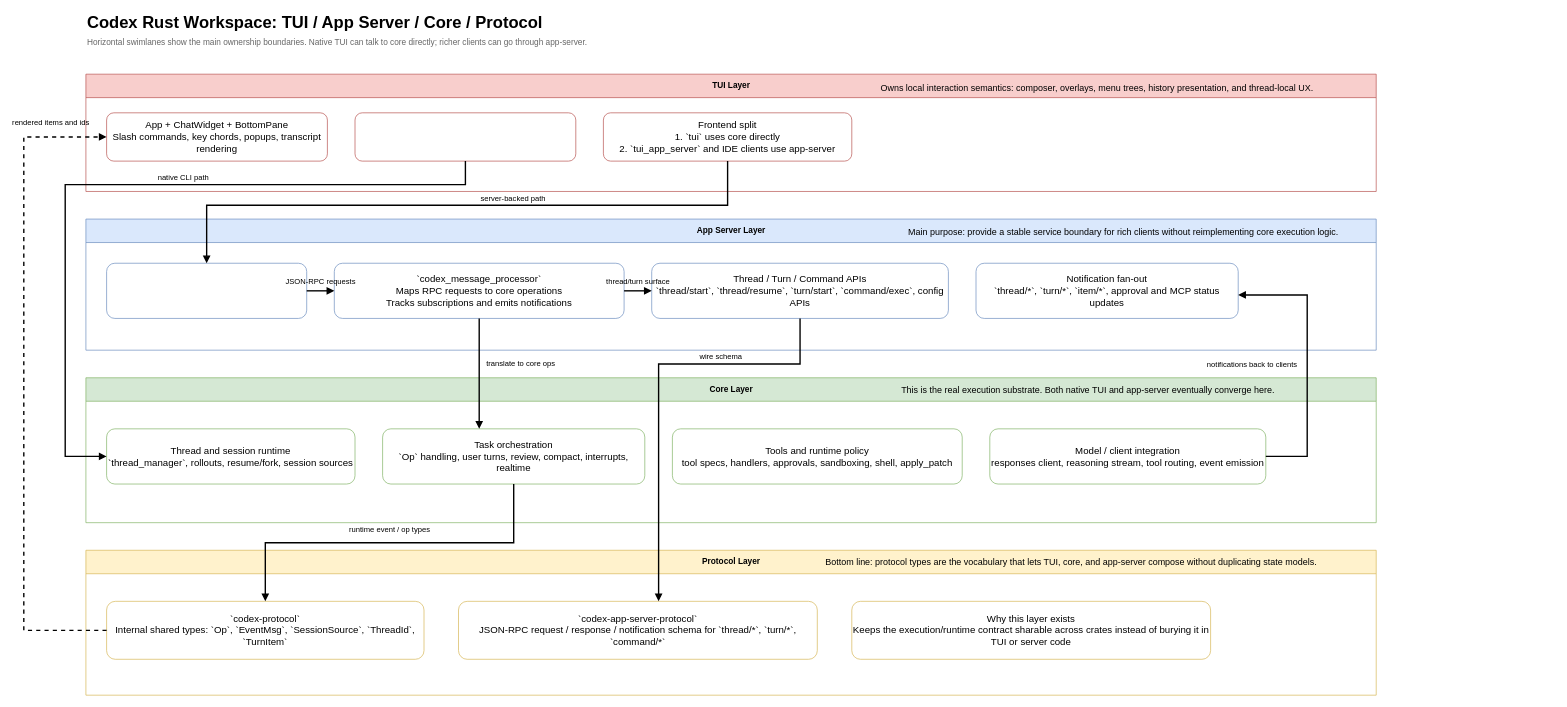
Image size: 1567x707. Some labels were removed from this diagram. The centre of each missing label's shape, as x and y in pixels:
AppEvent loop Routes UI intent into thread operations and local state changes: the point at 465,136
Transport stdio / websocket JSON-RPC framing and connection lifecycle: the point at 206,290
